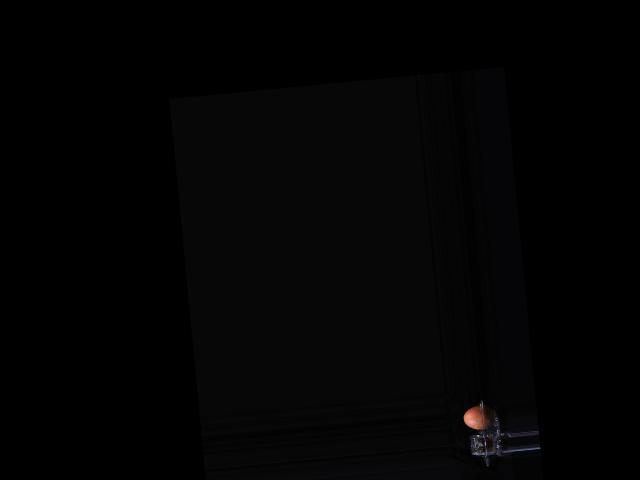egg: (462, 403, 496, 430)
